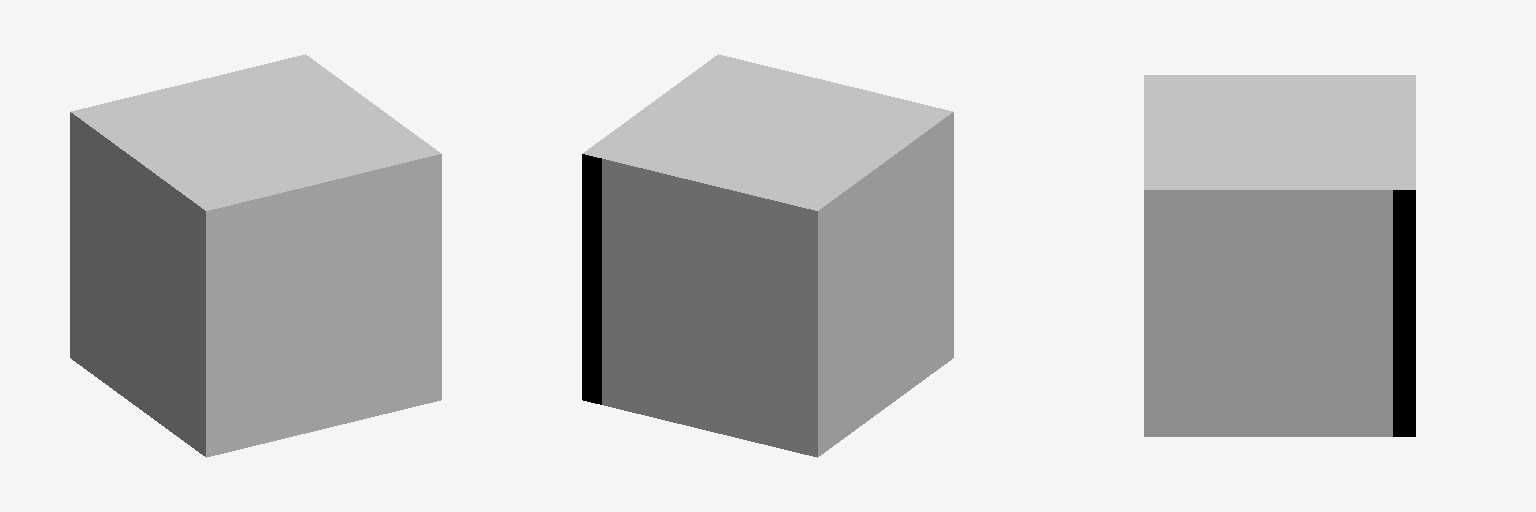
3 renders of one model, left to right at view 1: azimuth 30°, elevation 25°; view 2: azimuth 150°, elevation 25°; view 3: azimuth 270°, elevation 25°, orthographic.
Parts seen in each view (by area): view 1: Cube; view 2: Cube; view 3: Cube.
Boxes of the visible parts, <box> form: Cube: <box>70,54,441,457</box>; Cube: <box>582,54,953,457</box>; Cube: <box>1144,75,1415,436</box>.
Size of the model in its own units: 2 by 2 by 2.
1 materials, 1 textured.